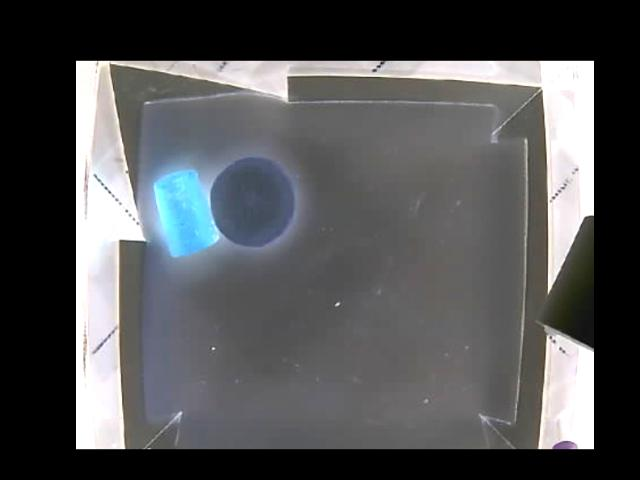Carrot: (154, 167, 218, 258)
Mooli: (209, 155, 292, 246)
